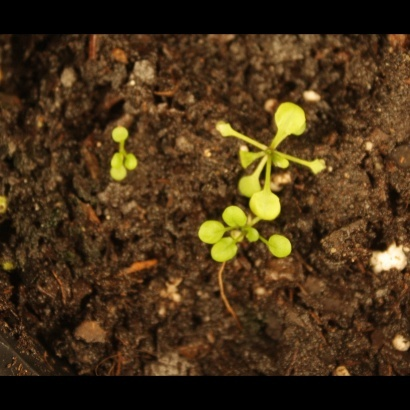leaf: (269, 100, 310, 140), (250, 189, 282, 224), (264, 230, 297, 262), (233, 169, 264, 201), (197, 215, 228, 246), (208, 236, 240, 265), (209, 114, 240, 143), (221, 203, 250, 229), (305, 153, 332, 178), (110, 123, 133, 146), (107, 161, 130, 184), (121, 152, 144, 175), (100, 147, 123, 170), (236, 147, 259, 170), (240, 224, 263, 247)
